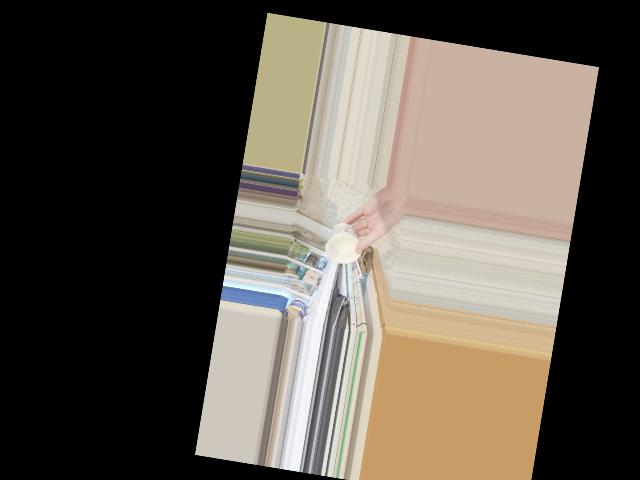cotage: (324, 221, 361, 263)
